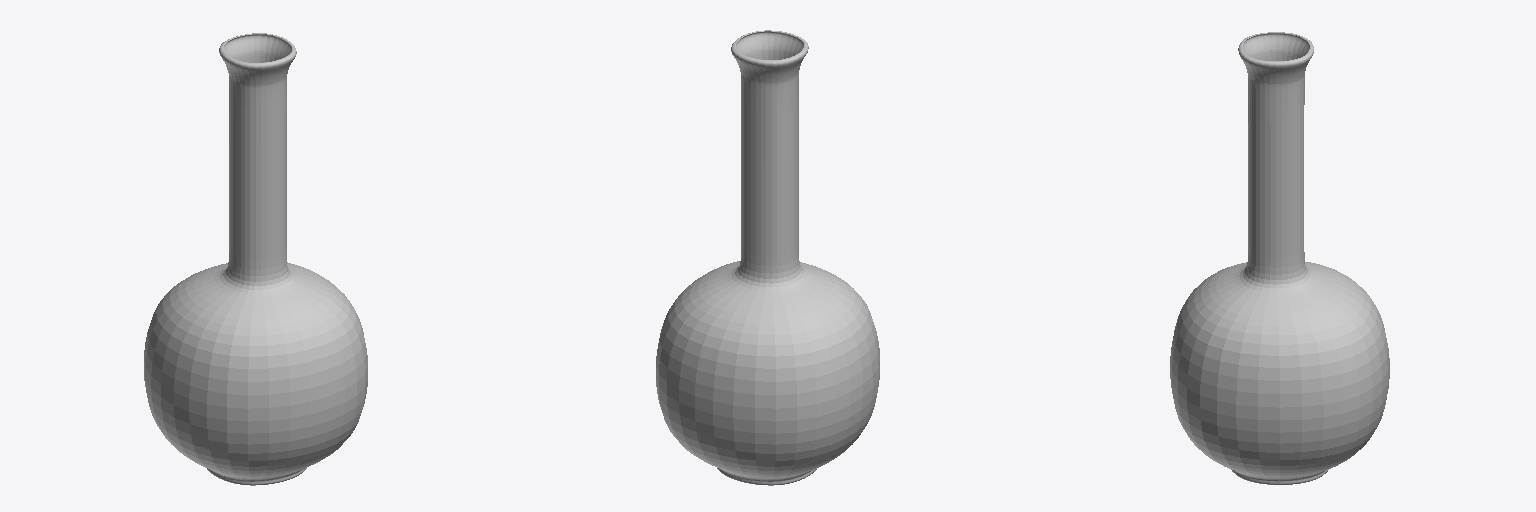
Rendered from vase2.obj.
3 renders of one model, left to right at view 1: azimuth 30°, elevation 25°; view 2: azimuth 150°, elevation 25°; view 3: azimuth 270°, elevation 25°, orthographic.
Parts seen in each view (by area): view 1: vase; view 2: vase; view 3: vase.
Part boxes in pixels (x1,y1,x2,y2): vase: (144, 33, 367, 485); vase: (656, 30, 879, 485); vase: (1170, 32, 1389, 484).
Size of the model in its own units: 97.05 by 204 by 97.06.